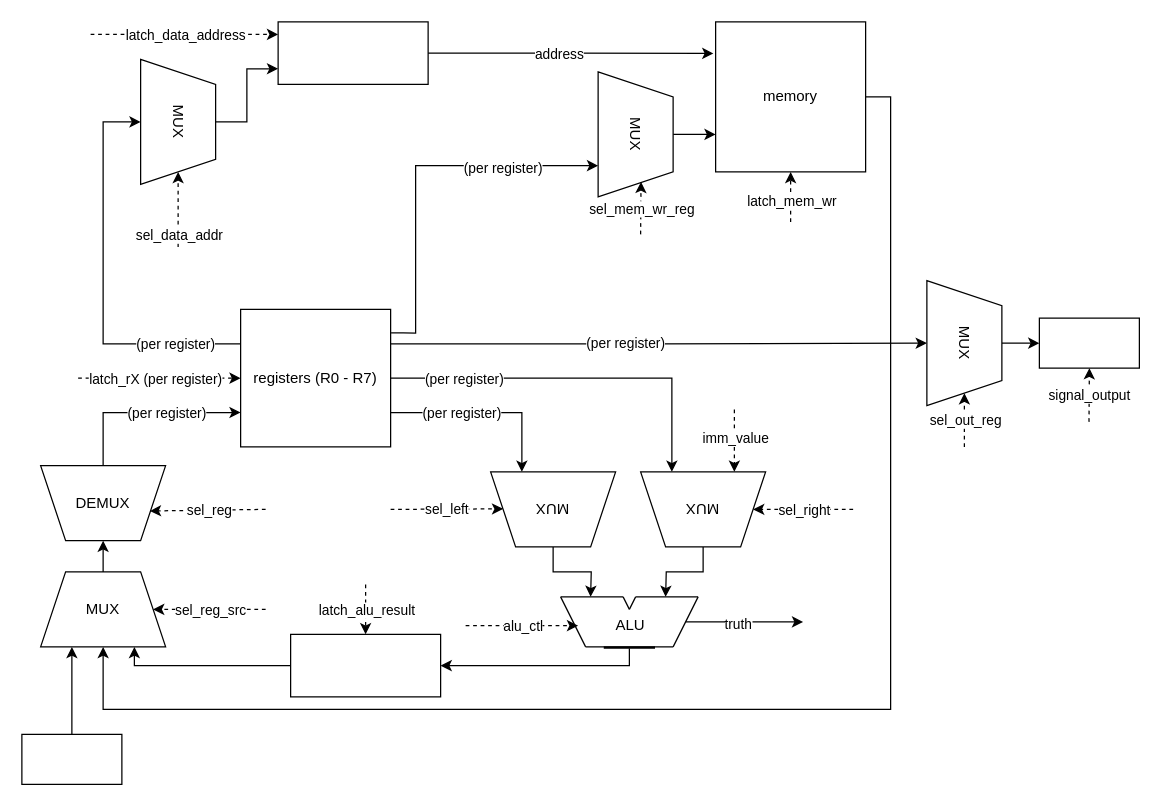
The diagram is 1161 pixels wide and 806 high, and some of its shapes have lost their labels. Each missing label, with the centre of its shape:
"alu_result" goes at (365,665).
"data address" goes at (352,52).
"input" goes at (71,758).
"output" goes at (1088,342).
